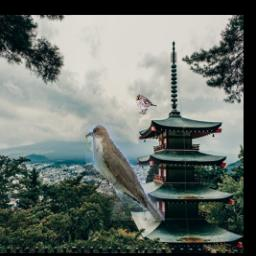Cuckoo: (86, 126, 166, 222)
Sparrow: (136, 94, 158, 115)
